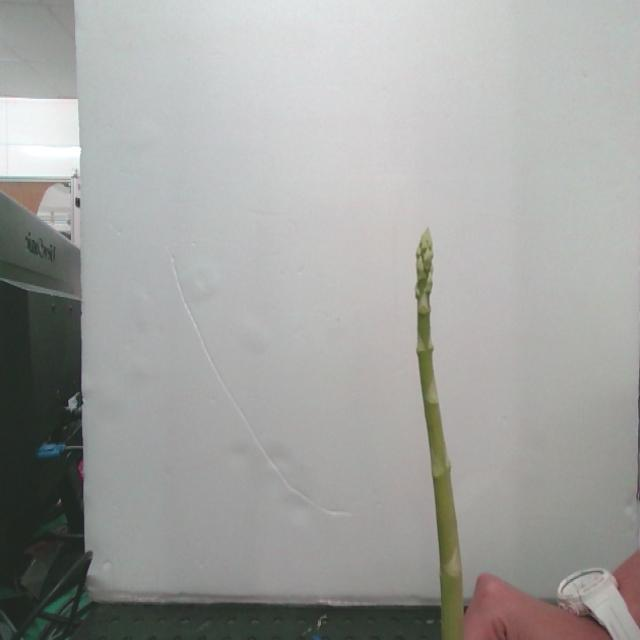aspargus: (413, 231, 464, 640)
